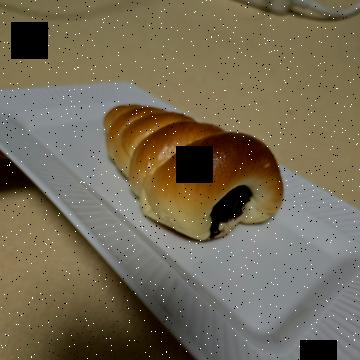cream horn: (91, 67, 256, 271)
